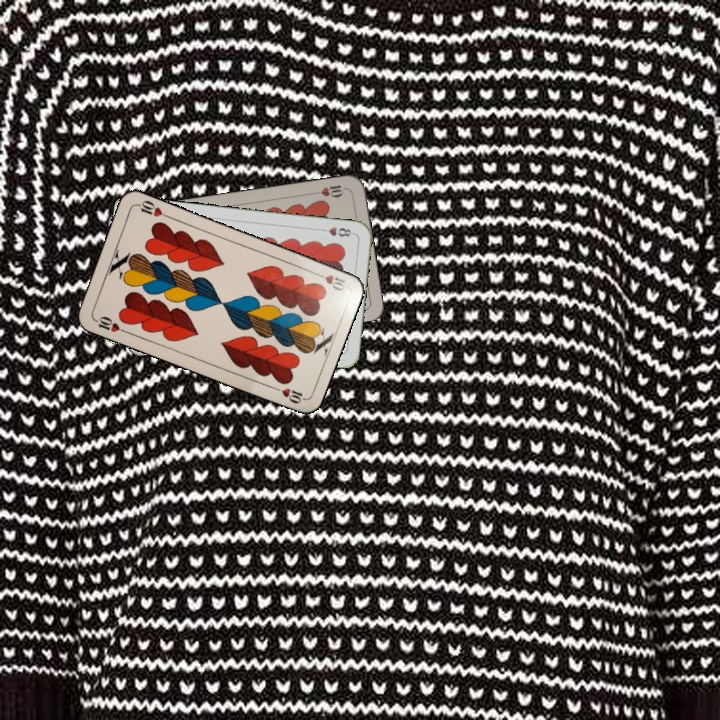H10: (310, 268, 350, 294), (90, 312, 129, 336), (309, 181, 349, 200)
H8: (316, 223, 356, 239)
